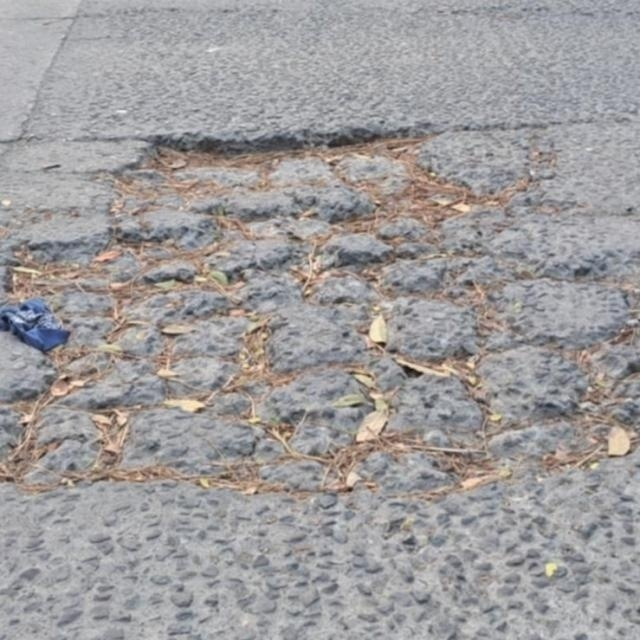pothole: (16, 111, 640, 536)
